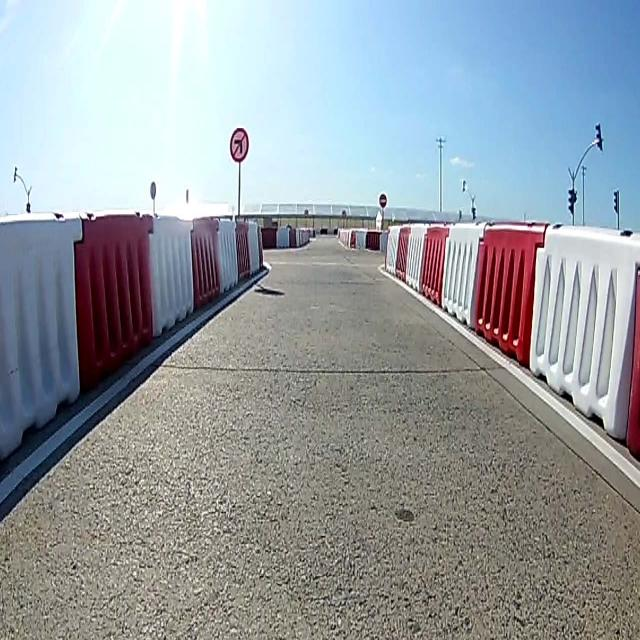girisyok: (379, 192, 387, 212)
soladonulmez: (228, 125, 250, 162)
